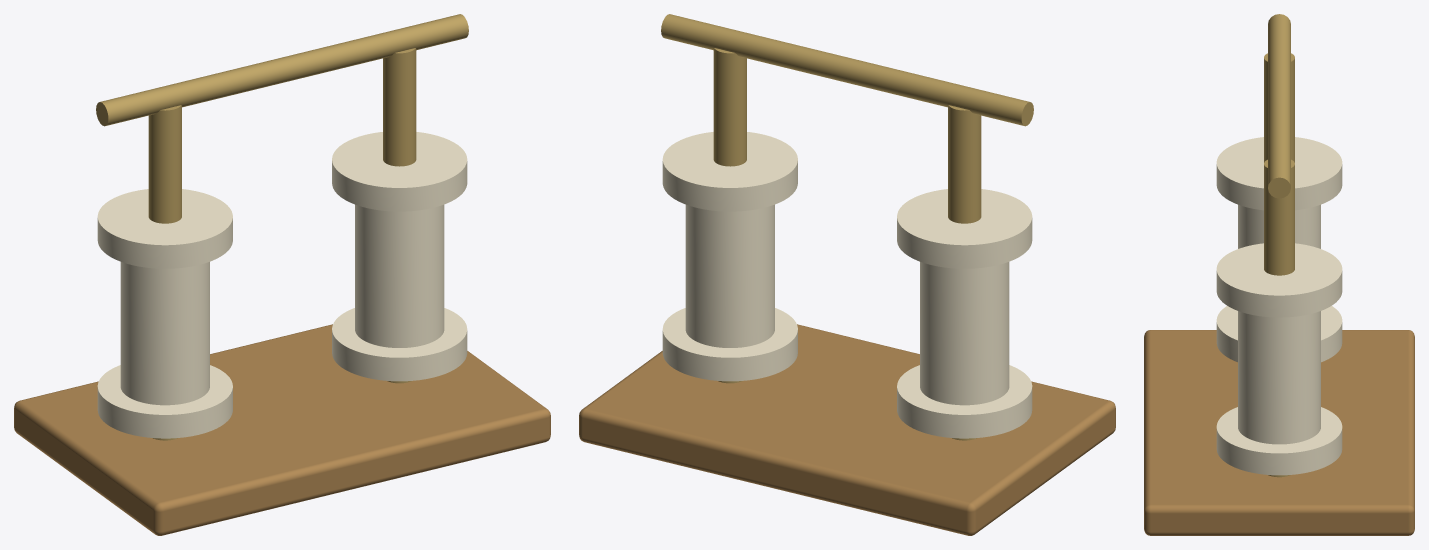
The model's file is abandoned-puppet-theatre-and-prop-vault-string-spool-s-43bbc017.glb.
3 renders of one model, left to right at view 1: azimuth 30°, elevation 25°; view 2: azimuth 150°, elevation 25°; view 3: azimuth 270°, elevation 25°, orthographic. The views are drawn at different scales.
Visible parts, largest first — view 1: string-spool-stand; view 2: string-spool-stand; view 3: string-spool-stand.
Part boxes in pixels (bbox=[...]): string-spool-stand: bbox=[14, 14, 550, 535]; string-spool-stand: bbox=[579, 14, 1115, 535]; string-spool-stand: bbox=[1144, 14, 1414, 535].
Bounding box in the file's own units: 0.44 × 0.402 × 0.28.
